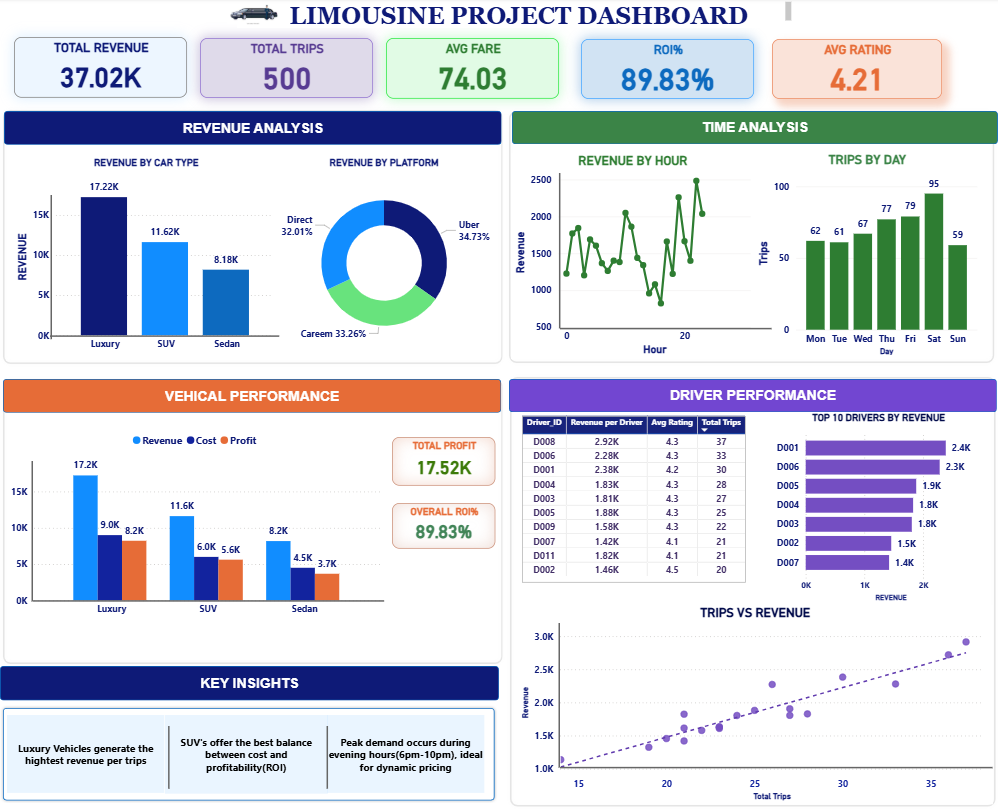

The dashboard page shown, as its layout file describes it:
{"tool":"powerbi","page":{"name":"Page 1","canvas":[1332,1084],"ordinal":0},"visuals":[{"type":"card","title":"TOTAL TRIPS","fields":{"Values":["Trips.Total Trips"]},"box":[280.3,58.6,230.9,80.4],"z":0},{"type":"card","title":"AVG FARE","fields":{"Values":["Trips.Avg Fare"]},"box":[529.1,58.7,231.2,81.2],"z":1000},{"type":"card","title":"ROI%","fields":{"Values":["Trips.ROI %"]},"box":[788.5,59.7,231.2,80.2],"z":2000},{"type":"card","title":"AVG RATING","fields":{"Values":["Trips.Avg Rating"]},"box":[1043.7,59.7,227.1,80.2],"z":3000},{"type":"textbox","box":[316.7,0,745,51.7],"z":4000},{"type":"card","title":"TOTAL REVENUE","fields":{"Values":["Trips.Total Revenue"]},"box":[32.2,57.7,231.2,81.2],"z":5000},{"type":"shape","box":[0,146,675,347],"z":6000},{"type":"clusteredColumnChart","title":"REVENUE BY CAR TYPE ","fields":{"Y":["Trips.Revenue per car type"],"Category":["Vehicle_Cost.Car_Type"]},"box":[17.3,212.7,356,268],"z":7000},{"type":"donutChart","title":"REVENUE BY PLATFORM","fields":{"Y":["Trips.Revenue per platform"],"Category":["Trips.Platform"]},"box":[364.7,212.7,296.7,268],"z":8000},{"type":"shape","box":[4.9,150.8,664.3,45.1],"z":9000},{"type":"shape","box":[675.7,147.1,655.7,344.3],"z":10000},{"type":"shape","box":[679.2,150.8,646.9,45.4],"z":11000},{"type":"lineChart","title":" REVENUE BY HOUR","fields":{"Category":["Trips.Hour"],"Y":["Trips.Total Revenue"]},"box":[682.7,206.4,325.5,275.5],"z":12000},{"type":"clusteredColumnChart","title":"TRIPS BY DAY","fields":{"Y":["Trips.Trips per Day"],"Category":["Trips.Day Name"]},"box":[1006.2,205,302.5,276.2],"z":13000},{"type":"shape","box":[0,504.2,675,388.3],"z":14000},{"type":"shape","box":[4.4,508.1,665,45],"z":15000},{"type":"shape","box":[676.2,502.5,656.2,581.2],"z":16000},{"type":"shape","box":[679.5,508.6,646.1,44.1],"z":17000},{"type":"clusteredColumnChart","fields":{"Category":["Vehicle_Cost.Car_Type"],"Y":["Trips.Total Revenue","Vehicle_Cost.Cost","Trips.Profit"]},"box":[10,570,505.5,264.5],"z":18000},{"type":"card","title":"OVERALL ROI%","fields":{"Values":["Trips.ROI %"]},"box":[522.7,673.6,138.2,60.9],"z":19000},{"type":"card","title":"TOTAL PROFIT","fields":{"Values":["Trips.Profit"]},"box":[523.6,585.5,138.2,64.5],"z":20000},{"type":"tableEx","fields":{"Values":["Trips.Driver_ID","Trips.Revenue per Driver","Trips.Avg Rating","Trips.Total Trips"]},"box":[691.5,553.1,315.4,227.7],"z":21000},{"type":"shape","box":[697.5,557.5,298.8,222.5],"z":22000},{"type":"clusteredBarChart","title":"TOP 10 DRIVERS BY REVENUE","fields":{"Y":["Trips.Revenue per Driver"],"Category":["Trips.Driver_ID"]},"box":[1030,552.5,285,257.5],"z":23000},{"type":"scatterChart","title":"TRIPS VS REVENUE","fields":{"Y":["Trips.Revenue"],"Category":["Trips.Driver_ID"],"X":["Trips.Total Trips"]},"box":[690.9,810,633.6,266.4],"z":24000},{"type":"image","box":[241.2,0,191.2,40],"z":25000},{"type":"shape","box":[747.5,1000,577.5,55],"z":26000},{"type":"shape","box":[18.8,617.5,48.8,187.5],"z":27000},{"type":"shape","box":[711.2,233.8,71.2,207.5],"z":28000},{"type":"shape","box":[43.8,262.5,48.8,192.5],"z":29000},{"type":"shape","box":[43.8,773.8,468.8,61.2],"z":30000},{"type":"shape","box":[67.3,423.6,306.4,56.4],"z":31000},{"type":"shape","box":[747.5,413.8,282.5,55],"z":32000},{"type":"shape","box":[0,892,666,46],"z":33000},{"type":"shape","box":[0,944.3,664.3,131.4],"z":34000},{"type":"shape","box":[10,957.1,210,104.3],"z":35000},{"type":"shape","box":[220,957,217,105],"z":36000},{"type":"shape","box":[437.1,957.1,210,104.3],"z":37000},{"type":"shape","box":[740,835,14,193],"z":38000},{"type":"shape","box":[423.8,971.2,27.5,83.8],"z":39000},{"type":"shape","box":[182.5,971.2,85,83.8],"z":40000}]}

Visuals, with their boxes in screenshot pixels (x1, y1, x2, y2), scaled from the page's 1332x1084 canvas onto the 998x809 screenshot:
"TOTAL TRIPS" card: left=210, top=44, right=383, bottom=104
"AVG FARE" card: left=396, top=44, right=570, bottom=104
"ROI%" card: left=591, top=45, right=764, bottom=104
"AVG RATING" card: left=782, top=45, right=952, bottom=104
textbox: left=237, top=0, right=795, bottom=39
"TOTAL REVENUE" card: left=24, top=43, right=197, bottom=104
shape: left=0, top=109, right=506, bottom=368
"REVENUE BY CAR TYPE " clusteredColumnChart: left=13, top=159, right=280, bottom=359
"REVENUE BY PLATFORM" donutChart: left=273, top=159, right=496, bottom=359
shape: left=4, top=113, right=501, bottom=146
shape: left=506, top=110, right=997, bottom=367
shape: left=509, top=113, right=994, bottom=146
" REVENUE BY HOUR" lineChart: left=512, top=154, right=755, bottom=360
"TRIPS BY DAY" clusteredColumnChart: left=754, top=153, right=981, bottom=359
shape: left=0, top=376, right=506, bottom=666
shape: left=3, top=379, right=502, bottom=413
shape: left=507, top=375, right=997, bottom=808
shape: left=509, top=380, right=993, bottom=412
clusteredColumnChart - Vehicle_Cost.Car_Type x Trips.Total Revenue: left=7, top=425, right=386, bottom=623
"OVERALL ROI%" card: left=392, top=503, right=495, bottom=548
"TOTAL PROFIT" card: left=392, top=437, right=496, bottom=485
tableEx - Trips.Driver_ID x Trips.Revenue per Driver: left=518, top=413, right=754, bottom=583
shape: left=523, top=416, right=746, bottom=582
"TOP 10 DRIVERS BY REVENUE" clusteredBarChart: left=772, top=412, right=985, bottom=605
"TRIPS VS REVENUE" scatterChart: left=518, top=605, right=992, bottom=803
image: left=181, top=0, right=324, bottom=30
shape: left=560, top=746, right=993, bottom=787
shape: left=14, top=461, right=51, bottom=601
shape: left=533, top=174, right=586, bottom=329
shape: left=33, top=196, right=69, bottom=340
shape: left=33, top=577, right=384, bottom=623
shape: left=50, top=316, right=280, bottom=358
shape: left=560, top=309, right=772, bottom=350
shape: left=0, top=666, right=499, bottom=700
shape: left=0, top=705, right=498, bottom=803
shape: left=7, top=714, right=165, bottom=792
shape: left=165, top=714, right=327, bottom=793
shape: left=327, top=714, right=485, bottom=792
shape: left=554, top=623, right=565, bottom=767
shape: left=318, top=725, right=338, bottom=787
shape: left=137, top=725, right=200, bottom=787
